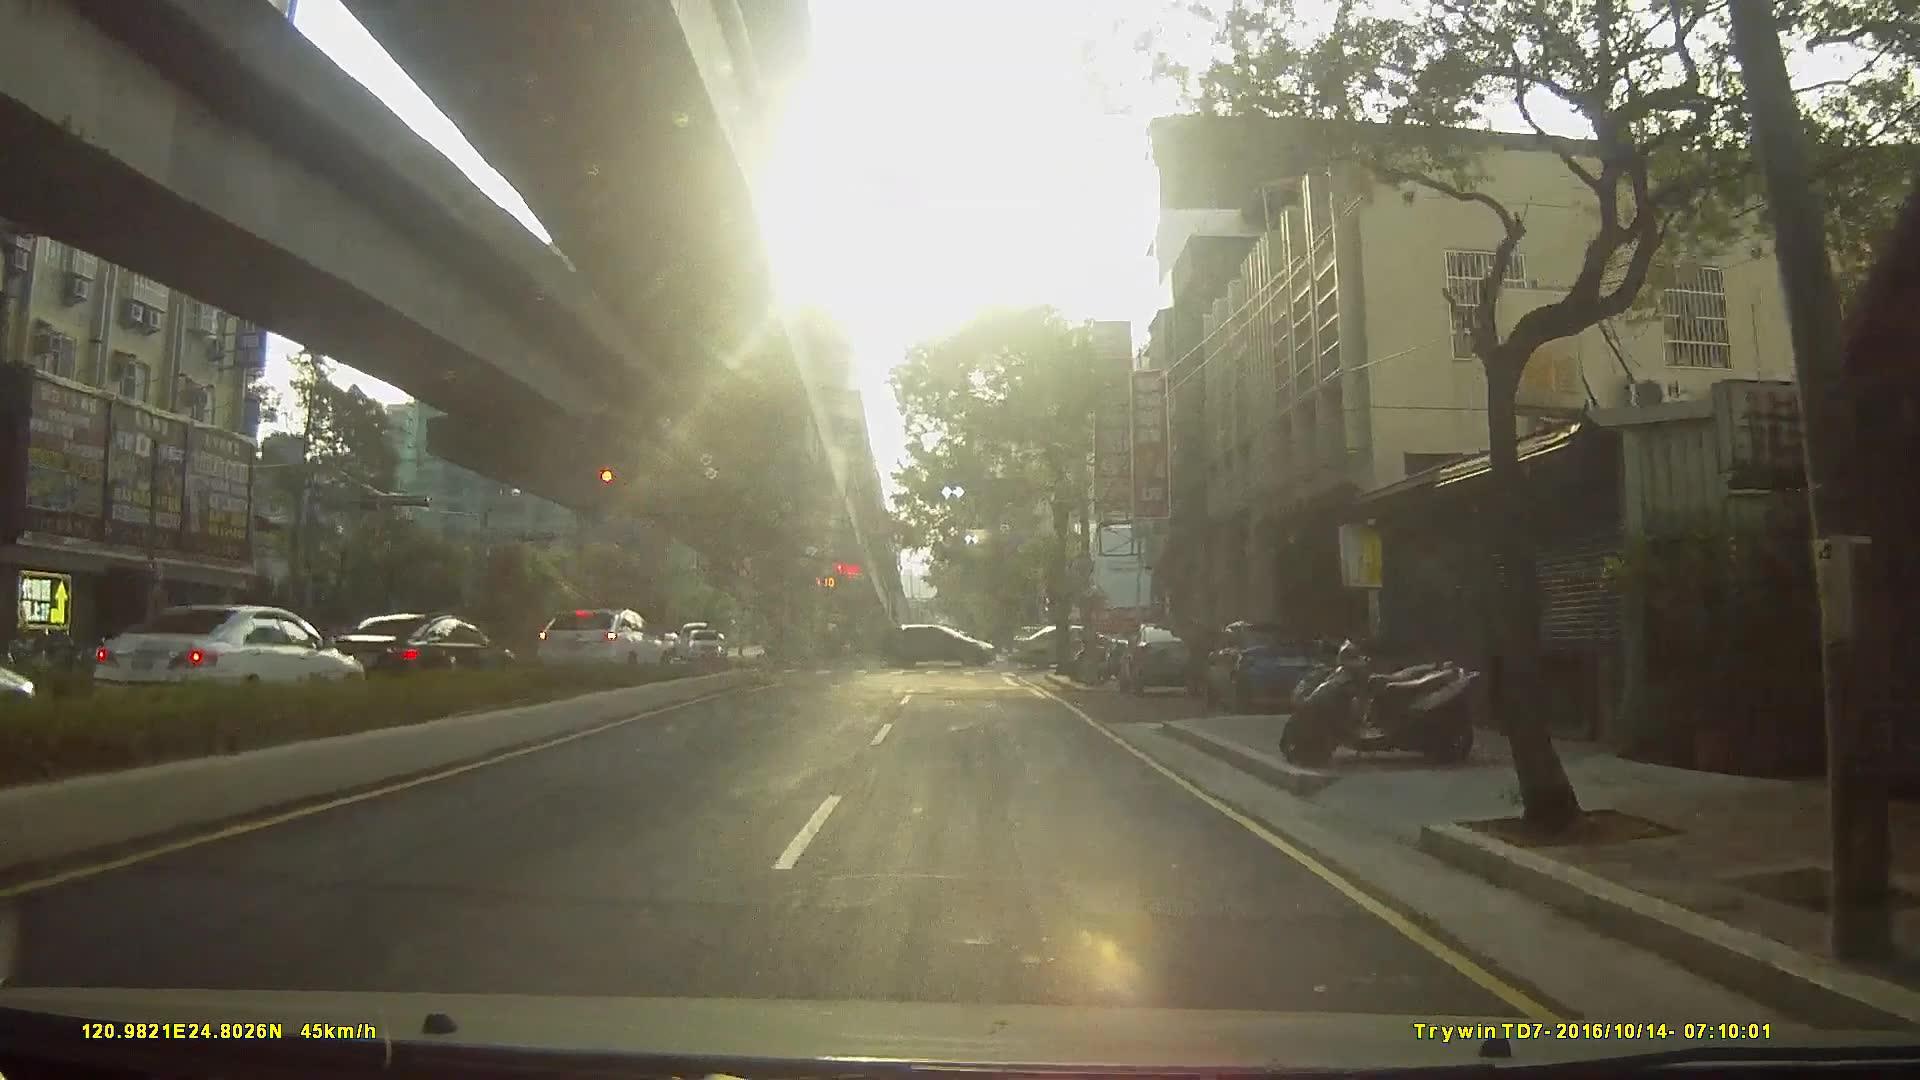vehicle: (71, 601, 373, 703), (320, 608, 514, 690), (1205, 615, 1335, 713), (529, 607, 667, 678), (1116, 617, 1215, 692), (1019, 621, 1135, 670), (884, 622, 998, 667), (683, 625, 727, 663)
